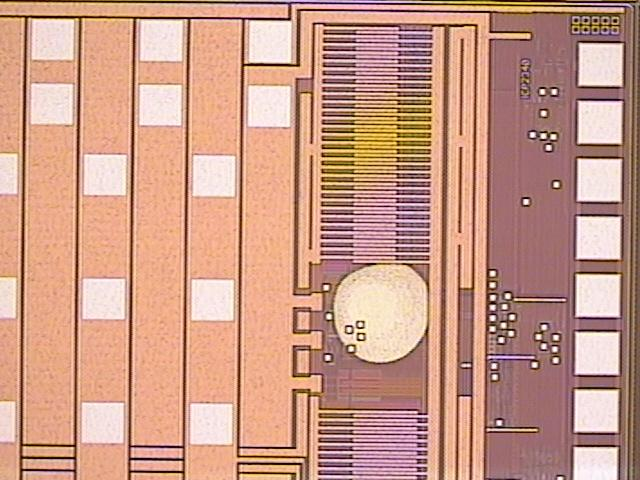BLOCK ETCH: (328, 258, 435, 366)
